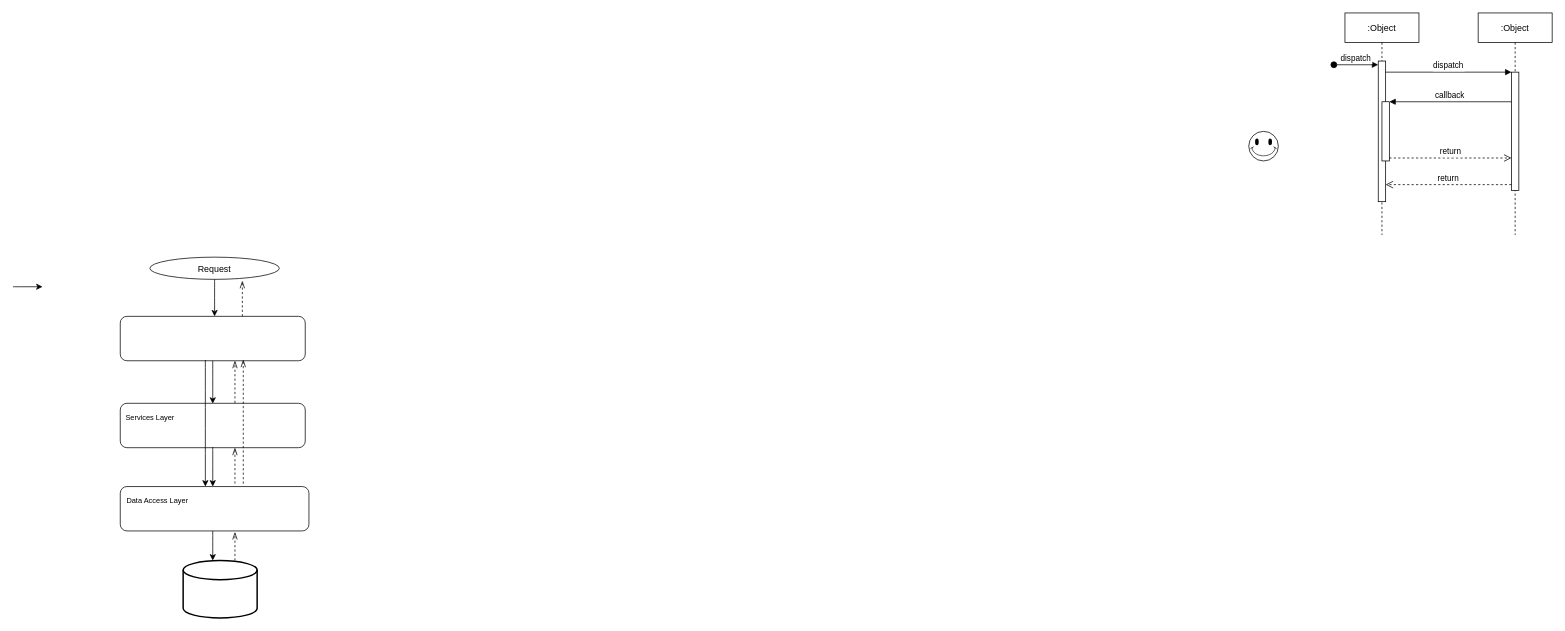
This 1565x631 diagram has some shape labels left out. Each missing label, with the centre of its shape:
API Layer: pixel 212 338
MongoDB: pixel 220 588
